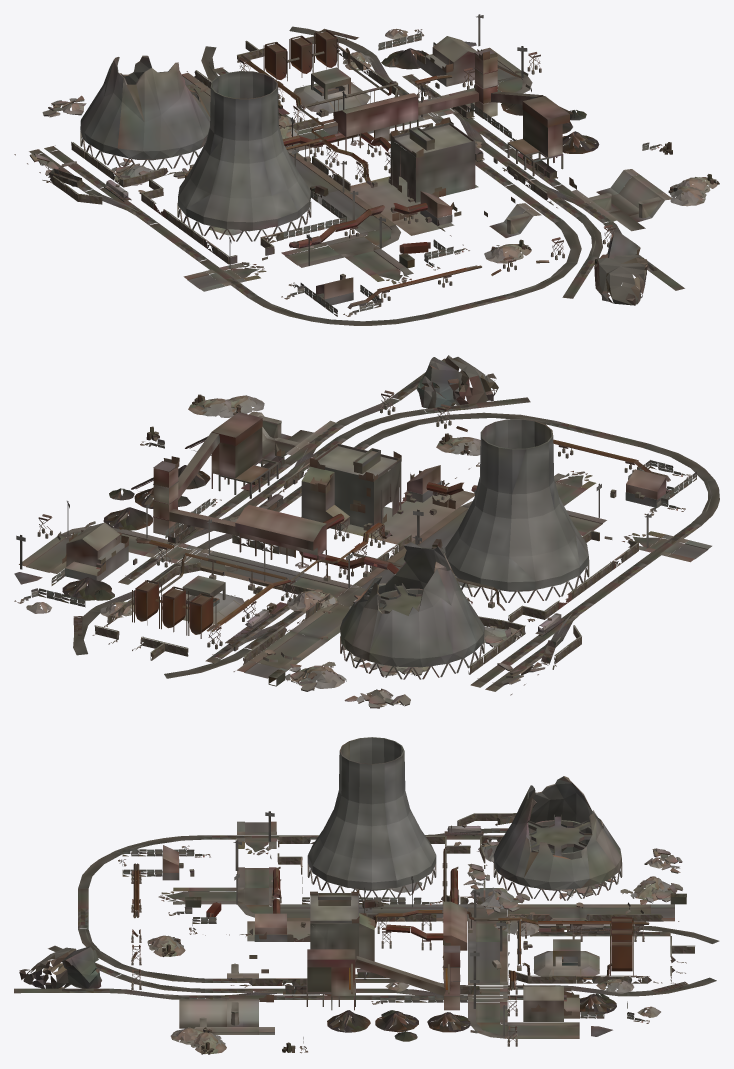
File: powerplant_1-map.glb
3 views of the same model, one above another, from view 1: azimuth 30°, elevation 25°; view 2: azimuth 150°, elevation 25°; view 3: azimuth 270°, elevation 25° (orthographic). The views are drawn at different scales.
Visible parts, largest first — view 1: powerplant_hlod; view 2: powerplant_hlod; view 3: powerplant_hlod.
Boxes of the visible parts, box(x1,y1,x2,y2) form: powerplant_hlod: box(14, 14, 719, 325); powerplant_hlod: box(14, 355, 719, 708); powerplant_hlod: box(14, 737, 719, 1054).
Size of the model in its own units: 211 by 57.01 by 266.
1 material, 1 textured.
